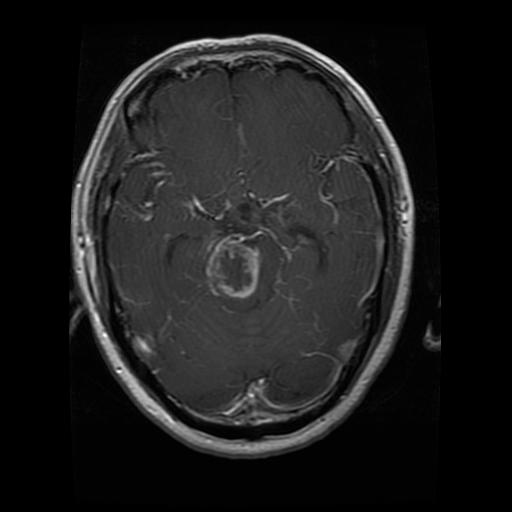Gliomia_tumour: (202, 234, 263, 303)
